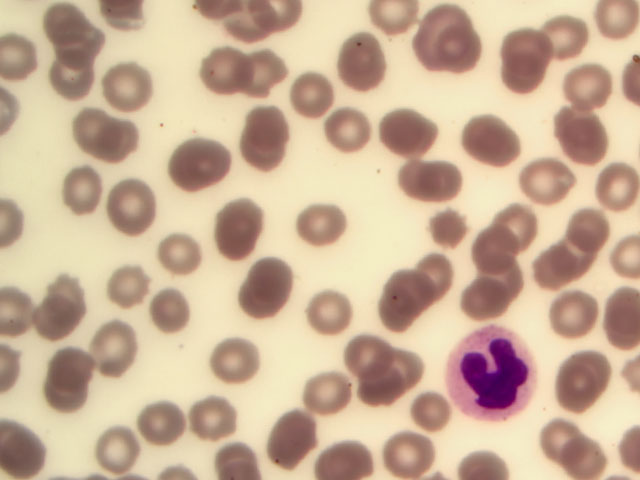RBC: (38, 1, 85, 46), (66, 23, 113, 68), (40, 56, 87, 101), (98, 61, 145, 106), (67, 109, 114, 154), (92, 123, 139, 168), (64, 170, 111, 215), (111, 183, 158, 228), (176, 141, 223, 186), (240, 133, 287, 178), (243, 100, 290, 145), (242, 50, 289, 95), (205, 45, 252, 90), (285, 69, 332, 114), (335, 109, 382, 154), (340, 32, 387, 77), (384, 110, 431, 155), (398, 155, 445, 200), (428, 155, 475, 200), (465, 118, 512, 163), (443, 33, 490, 78), (425, 9, 472, 54), (503, 58, 550, 103), (504, 29, 551, 74), (535, 13, 582, 58), (583, 3, 630, 48), (568, 68, 615, 113), (557, 110, 604, 155), (521, 159, 568, 204), (590, 157, 637, 202), (564, 210, 611, 255), (533, 250, 580, 295), (466, 227, 513, 272), (490, 203, 537, 248), (432, 207, 479, 252), (478, 256, 525, 301), (460, 280, 507, 325), (415, 246, 462, 291), (378, 273, 425, 318), (303, 291, 350, 336), (300, 203, 347, 248), (209, 215, 256, 260), (155, 232, 202, 277), (95, 263, 142, 308), (151, 287, 198, 332), (92, 328, 139, 373), (49, 339, 96, 384), (50, 371, 97, 416), (28, 304, 75, 349), (42, 265, 89, 310), (5, 431, 52, 476), (94, 429, 141, 474), (142, 406, 189, 451), (183, 405, 230, 450), (208, 342, 255, 387), (240, 272, 287, 317), (307, 377, 354, 422), (270, 415, 317, 460), (323, 435, 370, 480), (384, 434, 431, 479), (401, 392, 448, 437), (388, 347, 435, 392), (358, 360, 405, 405), (347, 330, 394, 375), (555, 364, 602, 409), (544, 418, 591, 463), (565, 342, 612, 387), (552, 289, 599, 334), (221, 1, 268, 46)
WBC: (446, 325, 542, 426)
